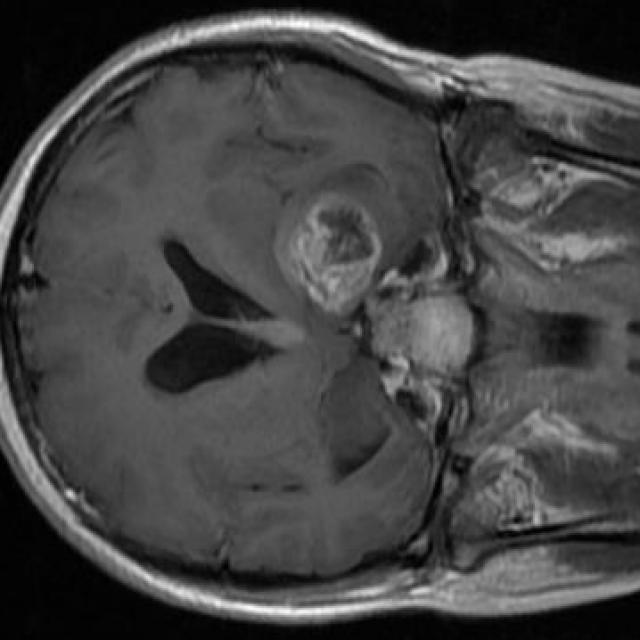glioma: (275, 191, 383, 317)
